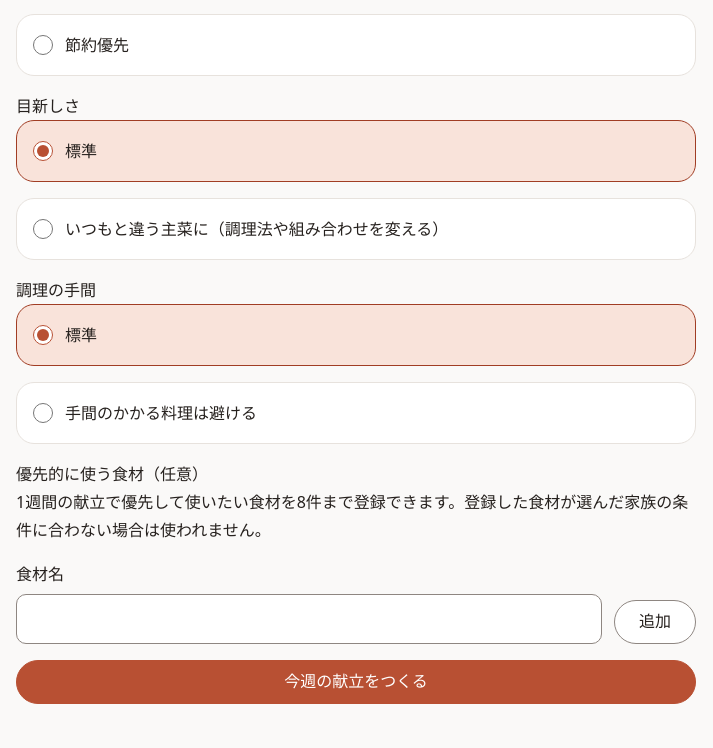
it: WeeklyPlanFormPage › updates sticky storage for weekly_plan_invalid_ai_response only when the request was consumed
(page scrolled)
Click the button "今週の献立をつくる". click: (356, 682)
box: [16,660,696,704]
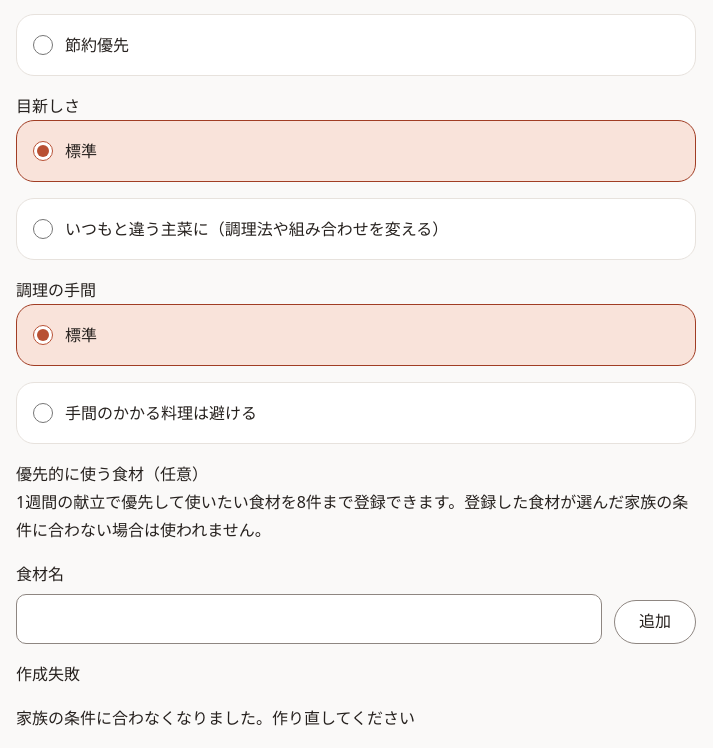
Result: the message reads "作成失敗" at [16,663,80,685]
